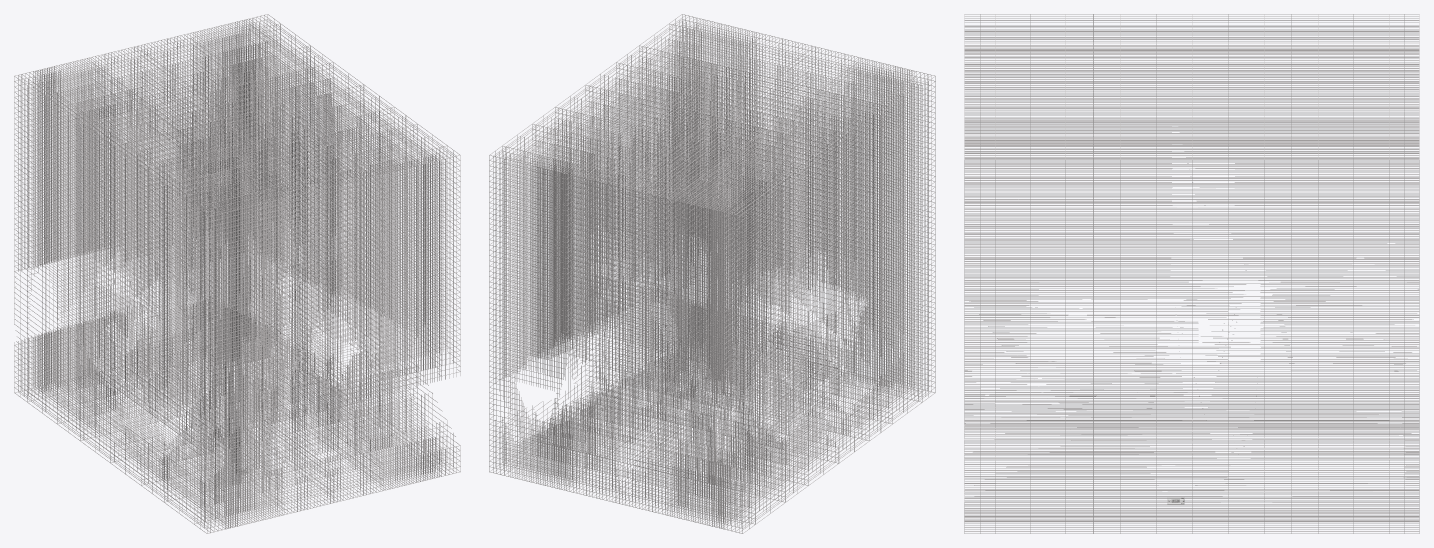
File: project10.glb
3 views of the same model, side by side, from view 1: azimuth 30°, elevation 25°; view 2: azimuth 150°, elevation 25°; view 3: azimuth 270°, elevation 25° (orthographic). The views are drawn at different scales.
Visible parts, largest first — view 1: fém - alumínium; view 2: fém - alumínium; view 3: fém - alumínium.
Boxes of the visible parts, left/top/right/bottom form: fém - alumínium: left=14, top=14, right=460, bottom=533; fém - alumínium: left=489, top=14, right=935, bottom=533; fém - alumínium: left=964, top=14, right=1419, bottom=533.
Size of the model in its own units: 10.1 by 13.36 by 13.3.
2 materials, 1 textured.
